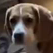Dog: (3, 6, 47, 44)
